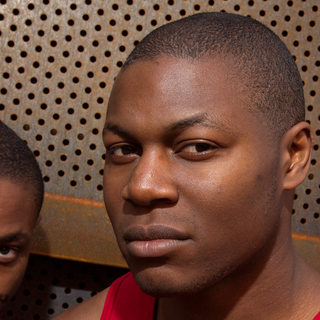eye: (168, 138, 227, 161), (103, 140, 146, 164)
